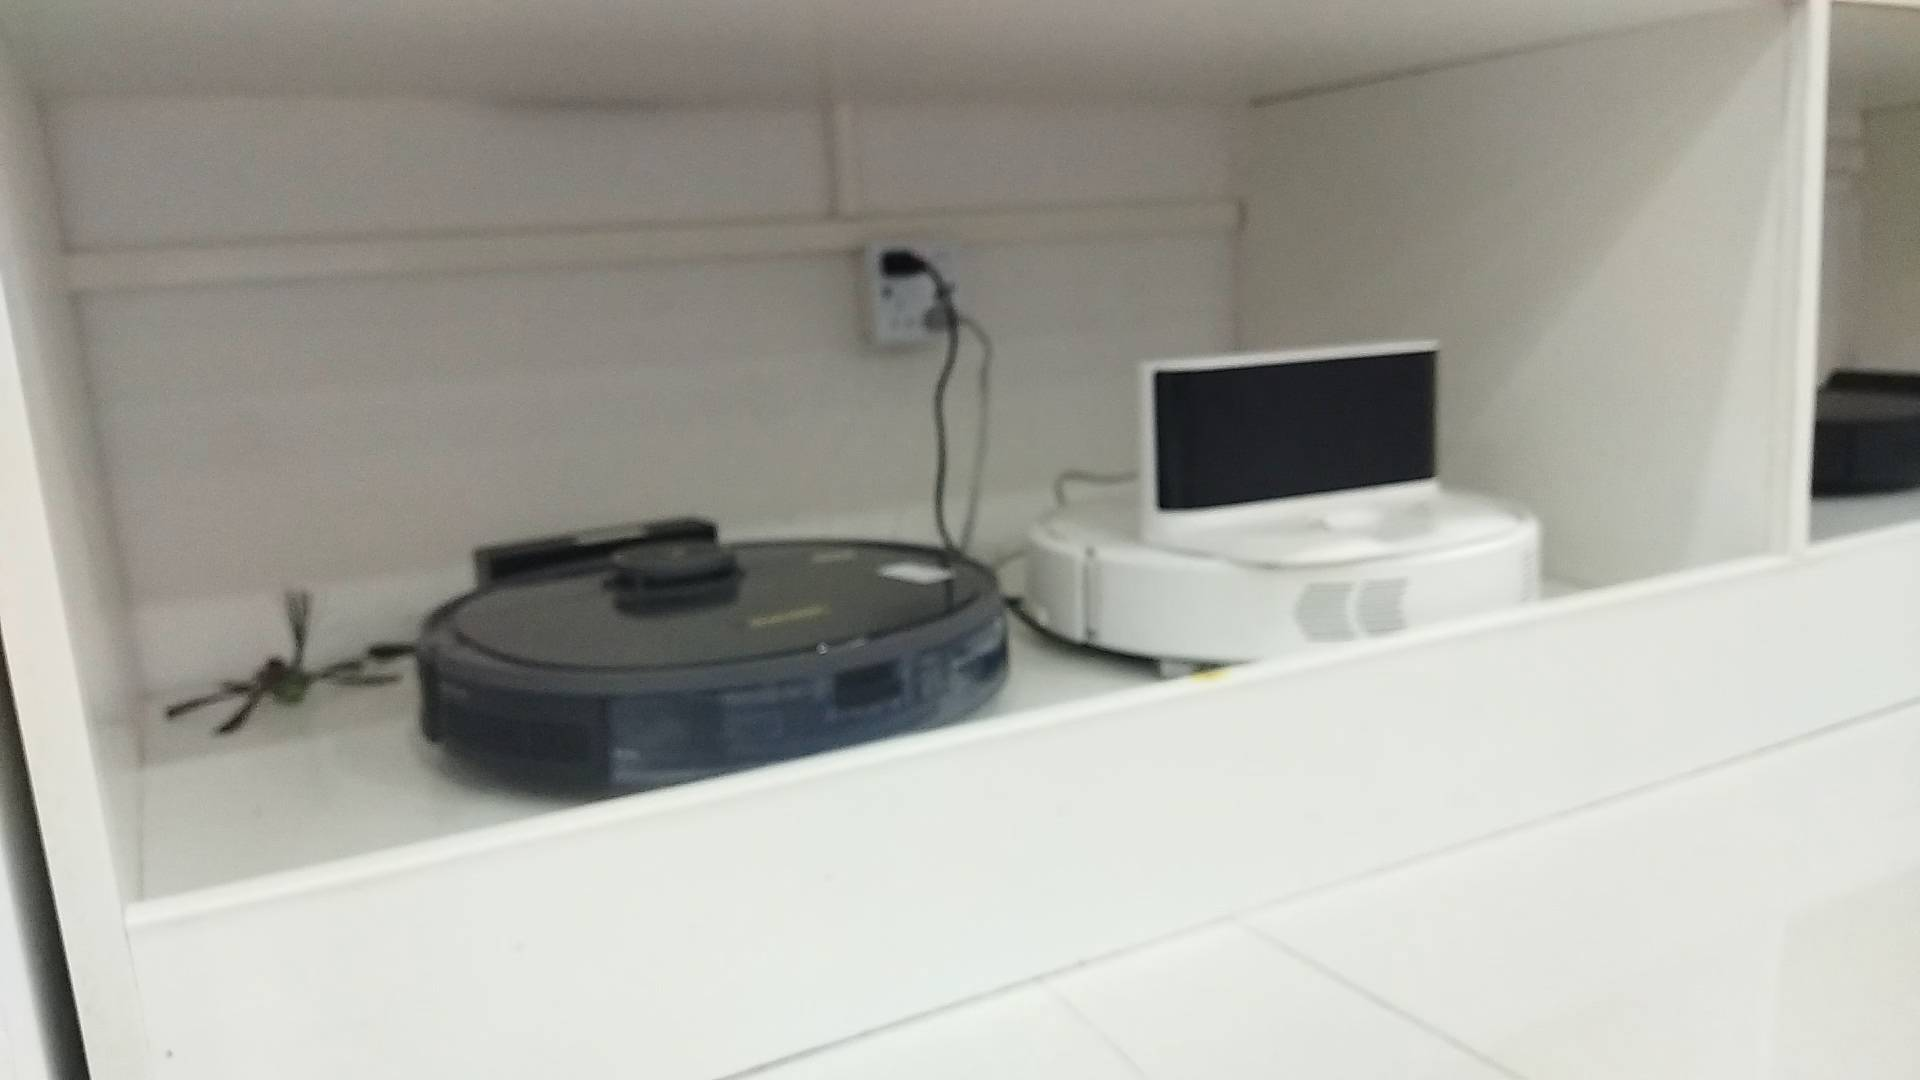recharge seat: (1135, 338, 1523, 570)
